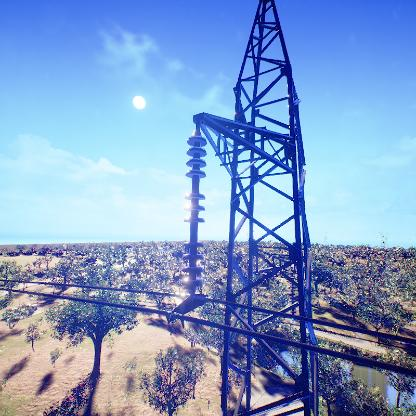insulator: (182, 135, 209, 292)
